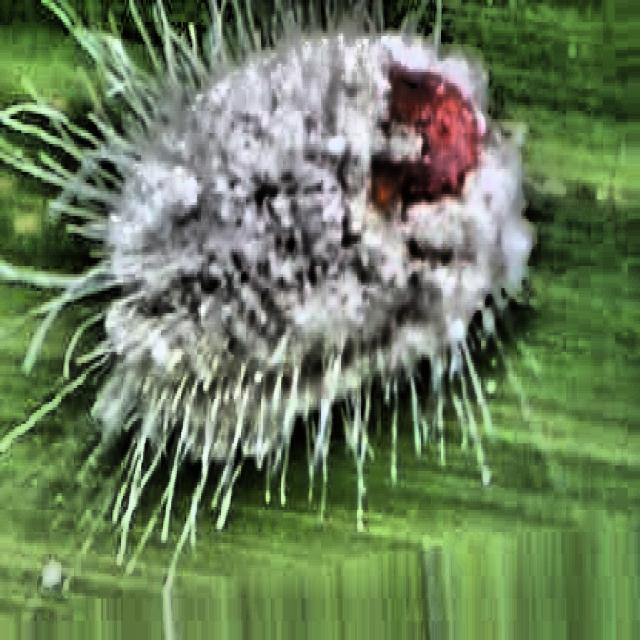Mealy-bug: (49, 15, 538, 510)
